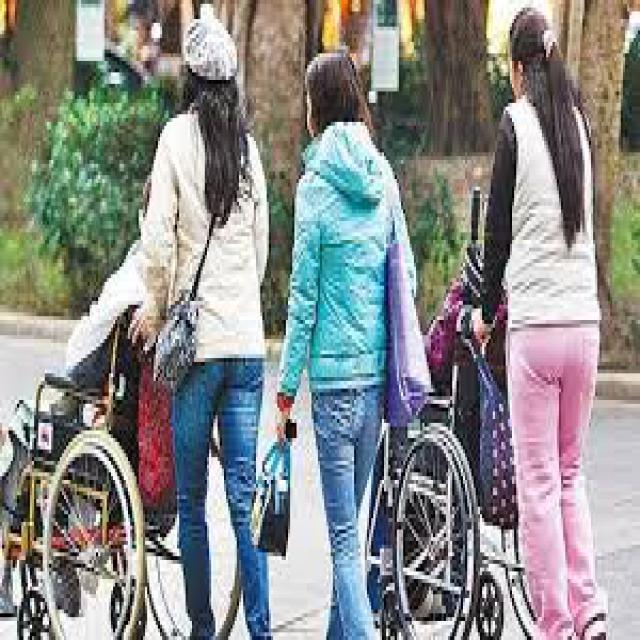wheelchairs: (0, 294, 239, 636), (363, 248, 531, 636)
